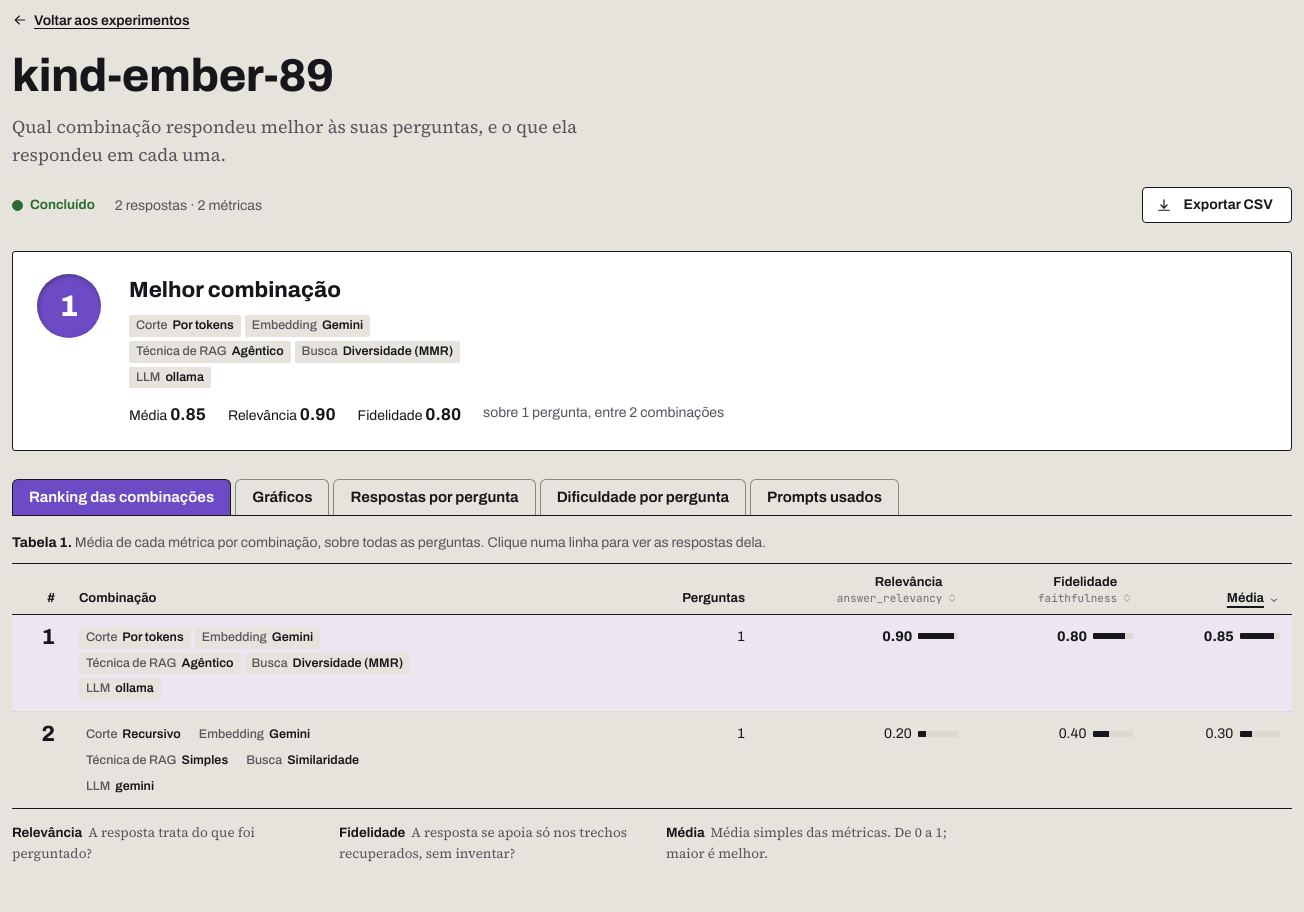
ExperimentDetailPage › clicking a ranked combination shows only its answers
This screenshot has width=1304, height=912.
Click the button with aria-label "ver respostas da combinação 2". click: (259, 761)
box: [79,724,439,798]
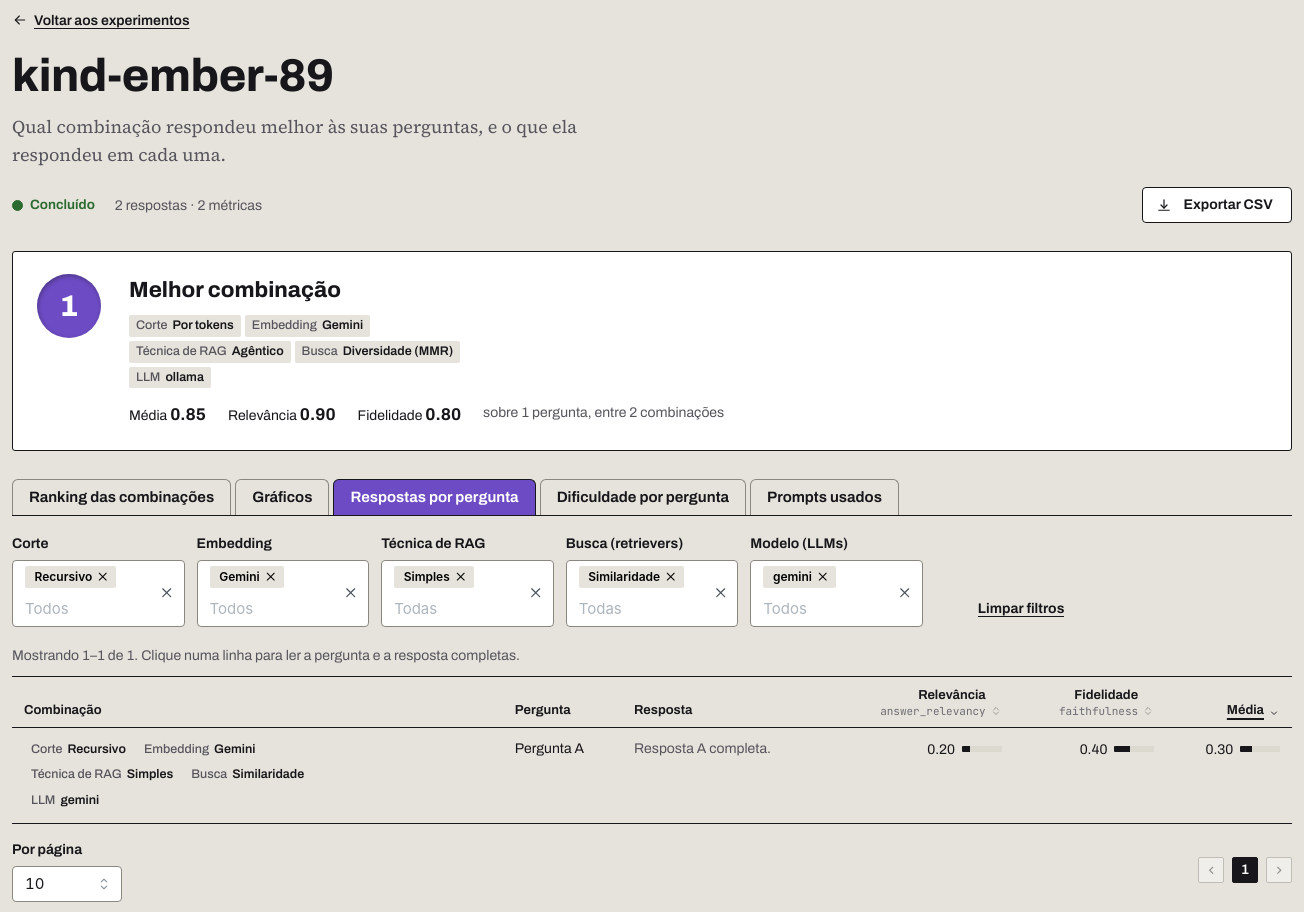
Expected: the button "Pergunta A" is shown, [515,739,584,758]
